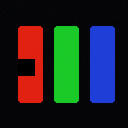1 square: (18, 59, 34, 75)
